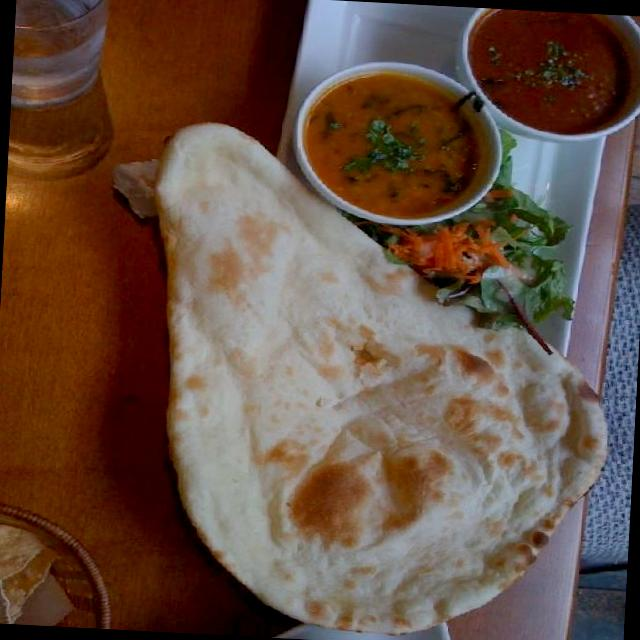Green Salad: (416, 180, 572, 321)
